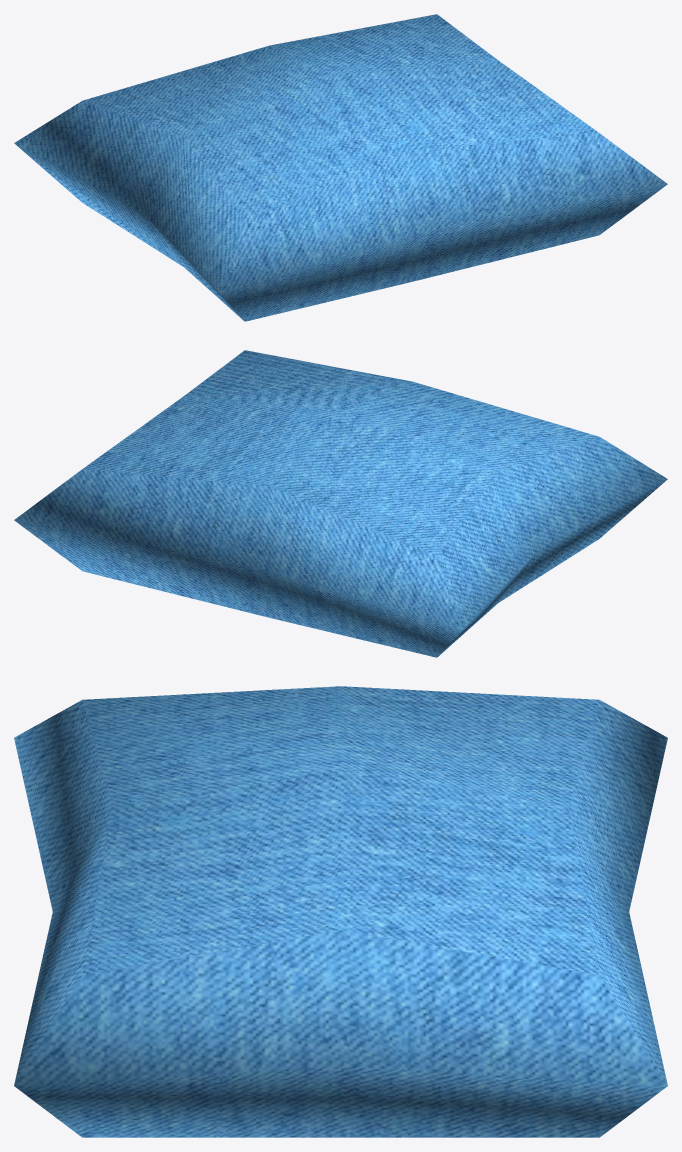
Rendered from Pillow_04.glb.
3 renders of one model, top to bottom at view 1: azimuth 30°, elevation 25°; view 2: azimuth 150°, elevation 25°; view 3: azimuth 270°, elevation 25°, orthographic. The views are drawn at different scales.
Parts seen in each view (by area): view 1: Pillow_04; view 2: Pillow_04; view 3: Pillow_04.
Boxes of the visible parts, x1=… form: Pillow_04: x1=14, y1=14, x2=667, y2=321; Pillow_04: x1=14, y1=350, x2=667, y2=657; Pillow_04: x1=14, y1=686, x2=667, y2=1137.
Size of the model in its own units: 0.7599 by 0.2884 by 0.6031.
Materials: 1 (1 with a texture image).
